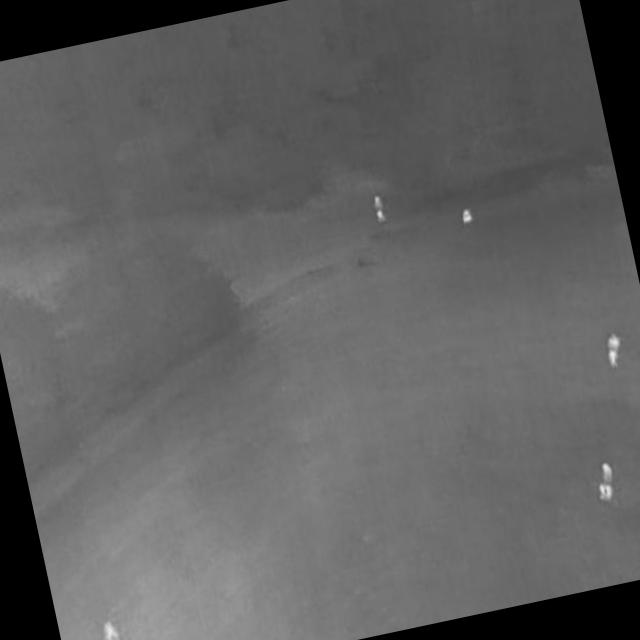person: (592, 462, 617, 503), (602, 329, 625, 369), (99, 619, 131, 640), (372, 194, 388, 225), (461, 206, 475, 226)
